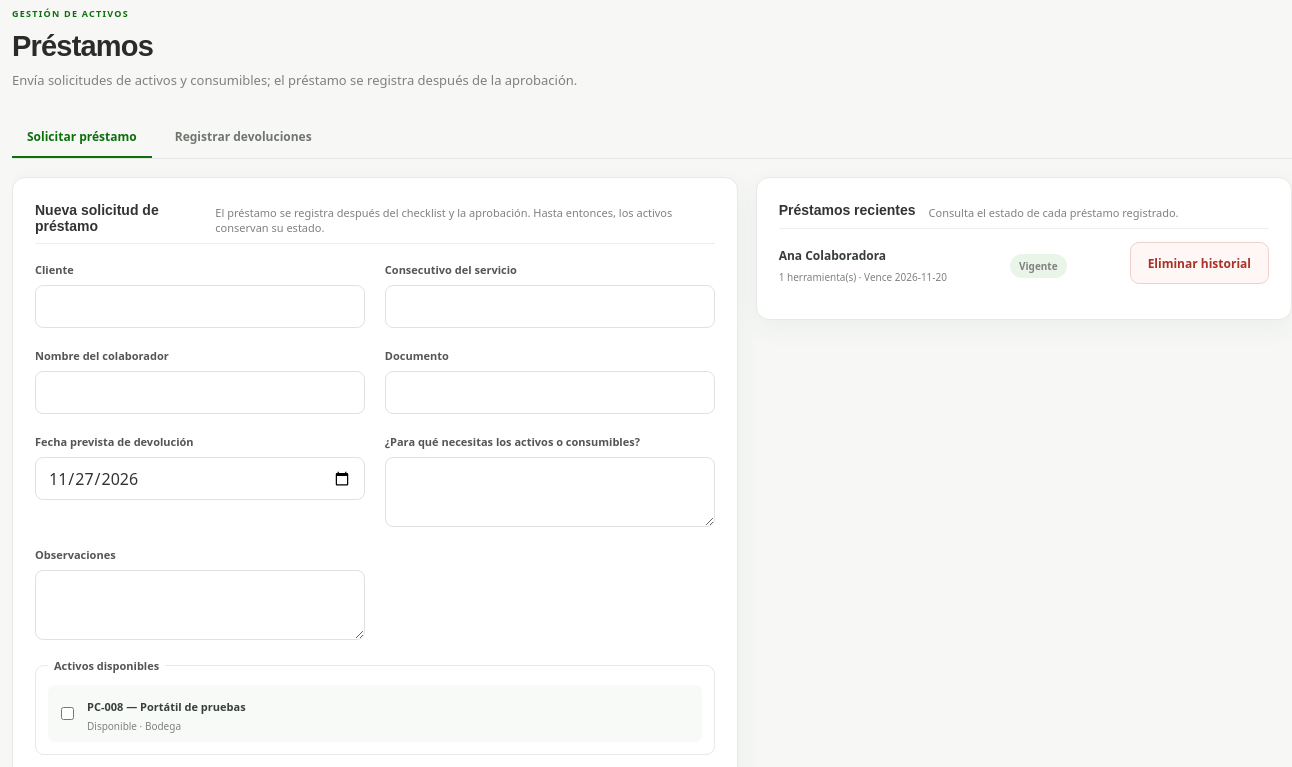
Scenario: Préstamos y devoluciones › permite al administrador eliminar el historial de un préstamo
Click the button with aria-label "Eliminar préstamo #12" at (1199, 263), box 1130,242 -> 1269,284
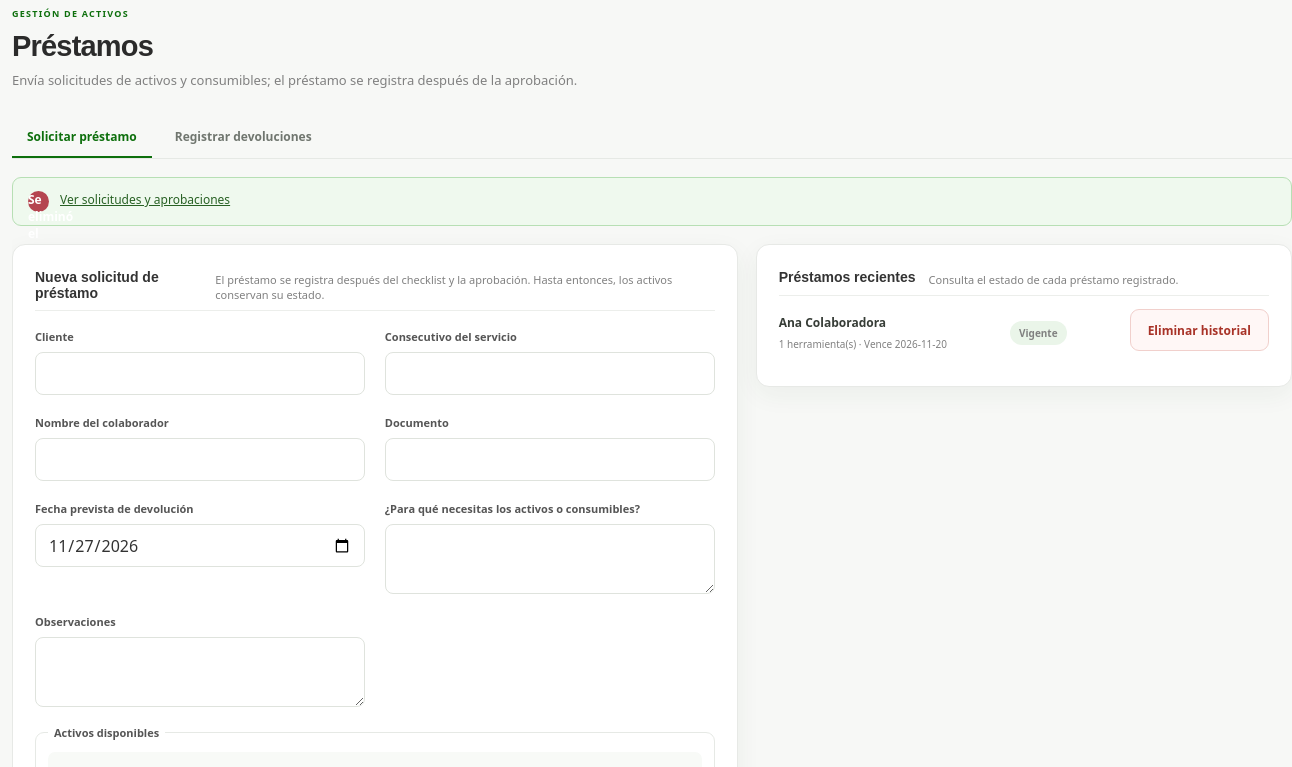
Now the message shows "Se eliminó el préstamo y su historial asociado.", box 28,191 -> 86,310
